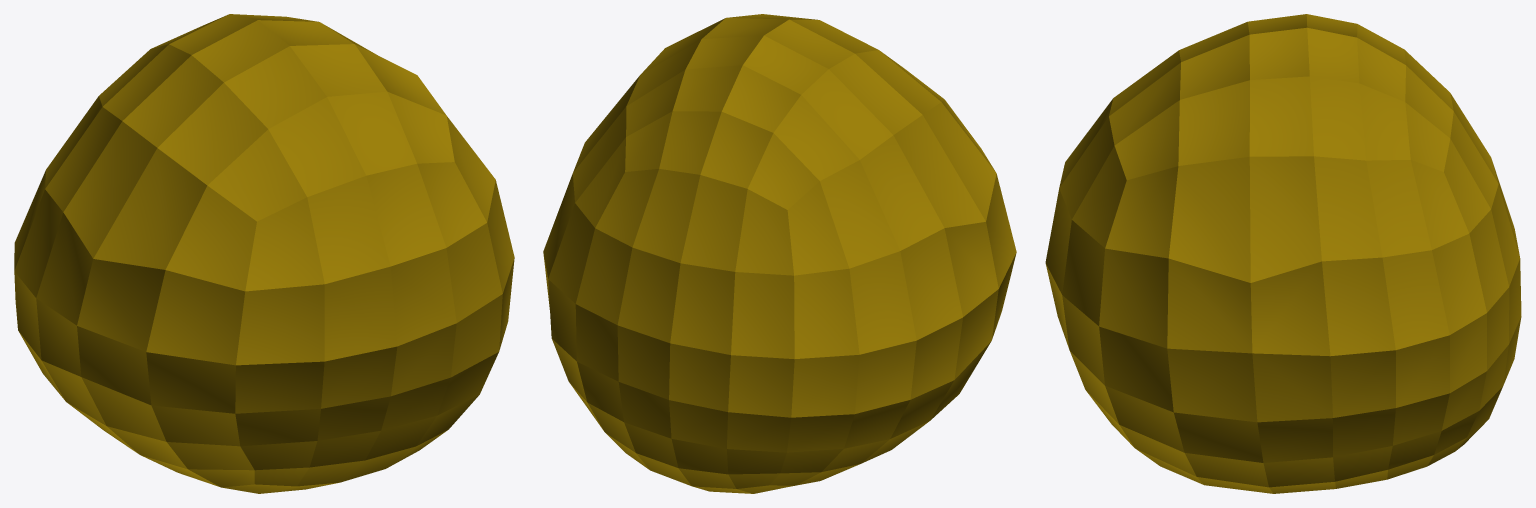
File: MeshPotatoC10_0.obj
The picture shows the model from 3 angles, left to right: view 1: azimuth 30°, elevation 25°; view 2: azimuth 150°, elevation 25°; view 3: azimuth 270°, elevation 25°; orthographic projection. The views are drawn at different scales.
Visible parts, largest first — view 1: PotatoC10; view 2: PotatoC10; view 3: PotatoC10.
Boxes of the visible parts, left/top/right/bottom form: PotatoC10: left=14, top=14, right=514, bottom=493; PotatoC10: left=543, top=14, right=1016, bottom=493; PotatoC10: left=1045, top=14, right=1521, bottom=493.
Size of the model in its own units: 0.0781 by 0.0796 by 0.0779.
